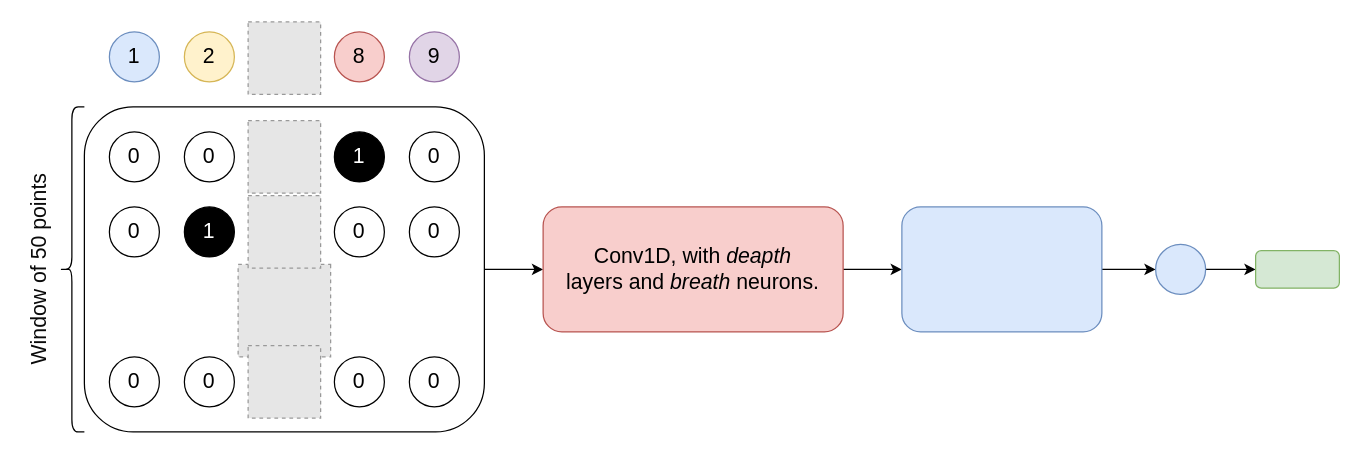
Image size: 1361x466. Some labels were removed from this diagram. Grey dashed boxes stand in for pictures. The centre of each missing label's shape, as x and y in pixels:
"2 Dense layers with 10 neurons each" goes at (1001,269).
"Output" goes at (1296,268).
